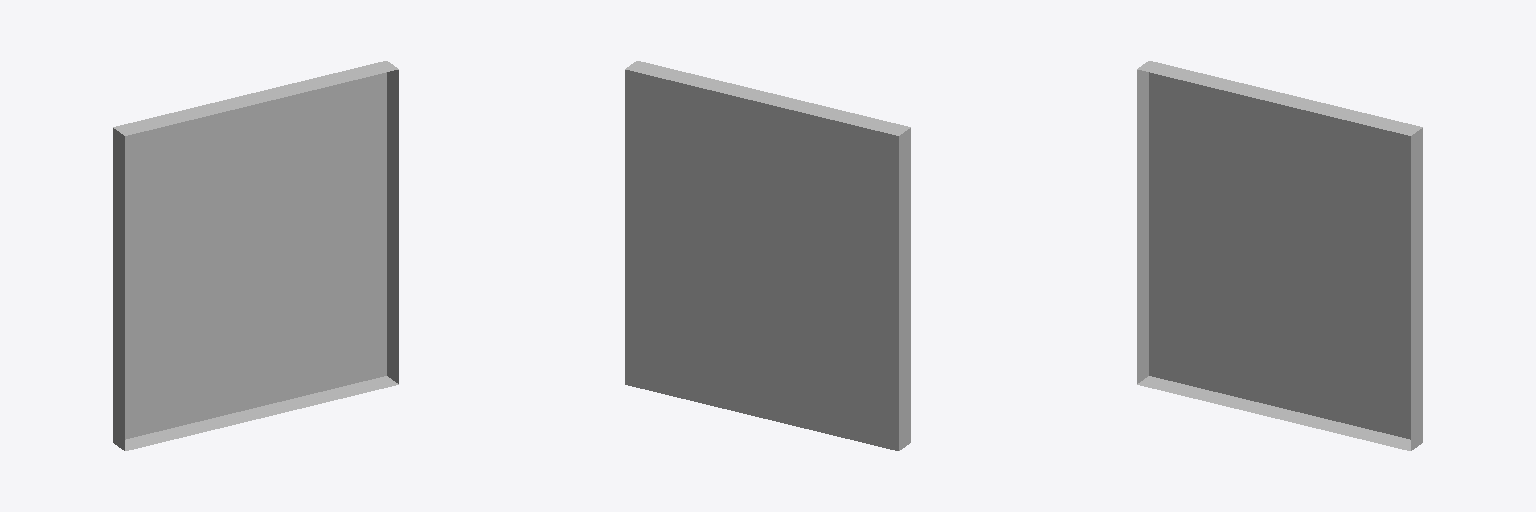
File: original-3.obj
3 renders of one model, left to right at view 1: azimuth 30°, elevation 25°; view 2: azimuth 150°, elevation 25°; view 3: azimuth 330°, elevation 25°, orthographic.
Parts seen in each view (by area): view 1: 3dw.1f419ba839c771df6d07533ccc0d1b77/Model/Group_1_1/Group_1/mes; view 2: 3dw.1f419ba839c771df6d07533ccc0d1b77/Model/Group_1_1/Group_1/mes; view 3: 3dw.1f419ba839c771df6d07533ccc0d1b77/Model/Group_1_1/Group_1/mes.
Boxes of the visible parts, x1,y1,x2,y2 form: 3dw.1f419ba839c771df6d07533ccc0d1b77/Model/Group_1_1/Group_1/mes: [113, 61, 398, 450]; 3dw.1f419ba839c771df6d07533ccc0d1b77/Model/Group_1_1/Group_1/mes: [625, 61, 910, 450]; 3dw.1f419ba839c771df6d07533ccc0d1b77/Model/Group_1_1/Group_1/mes: [1137, 61, 1422, 450].
Bounding box in the file's own units: 1.35 × 1.48 × 0.1036.